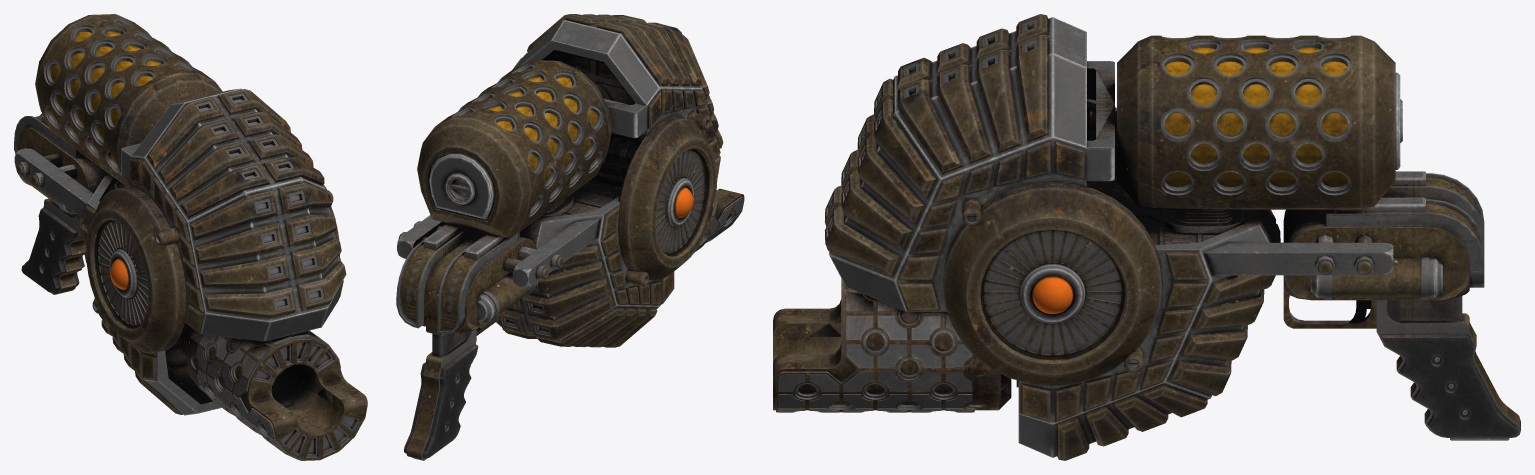
File: bore.glb
The picture shows the model from 3 angles, left to right: view 1: azimuth 30°, elevation 25°; view 2: azimuth 150°, elevation 25°; view 3: azimuth 270°, elevation 25°; orthographic projection. The views are drawn at different scales.
Visible parts, largest first — view 1: cerebral_bore; view 2: cerebral_bore; view 3: cerebral_bore.
Boxes of the visible parts, <box> form: cerebral_bore: <box>14,14,367,460</box>; cerebral_bore: <box>396,14,744,460</box>; cerebral_bore: <box>773,14,1520,460</box>.
Size of the model in its own units: 30.85 by 46.81 by 76.77.
Materials: 1 (1 with a texture image).
